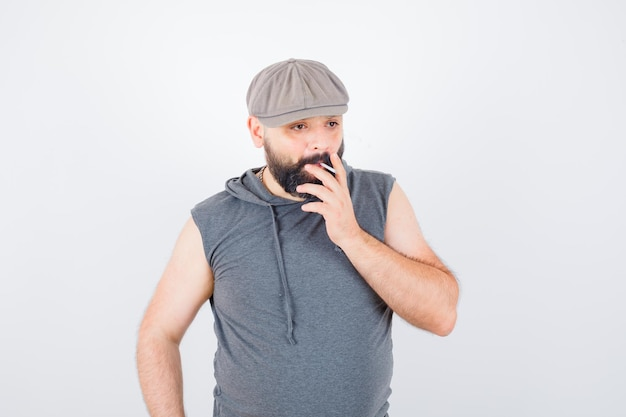cigarette: (318, 161, 341, 177)
